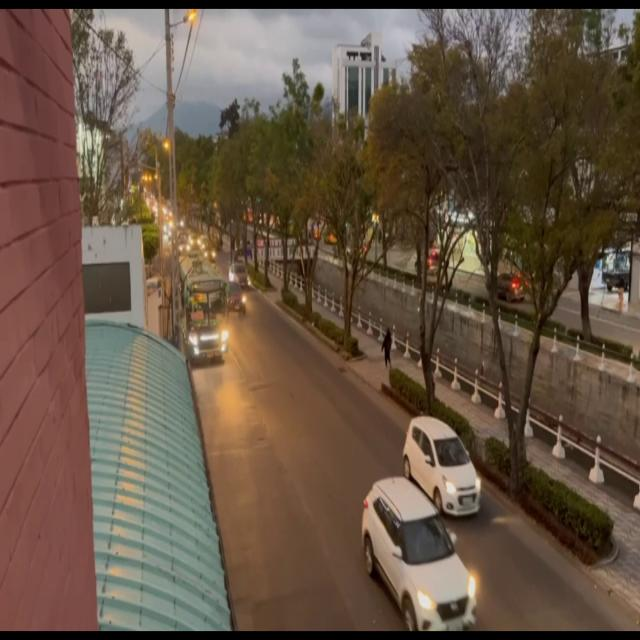BUS: (184, 268, 227, 360)
SUV: (362, 482, 478, 636), (406, 424, 481, 516)
